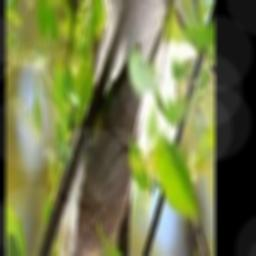Cuckoo: (49, 0, 185, 256)
